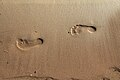human_foot_print: (71, 22, 98, 38), (15, 36, 46, 49)
